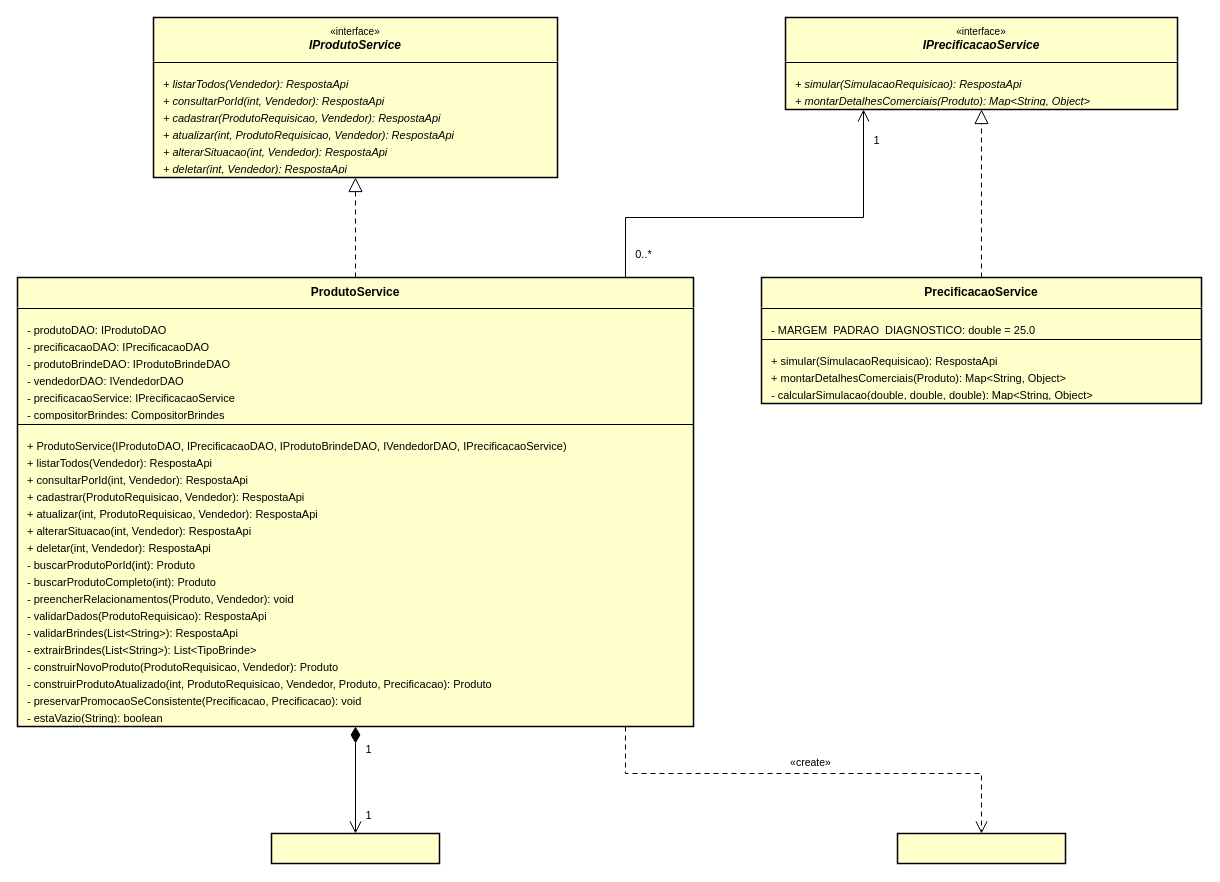
Some shapes in this 1220 by 882 pixel diagram are drawn without their labels. The shapes that lost their labels are listed below. From the top down, each one's centre as x and y in pixels, then its label:
At point 355,848: "CompositorBrindes".
At point 981,848: "ProdutoBuilder".
